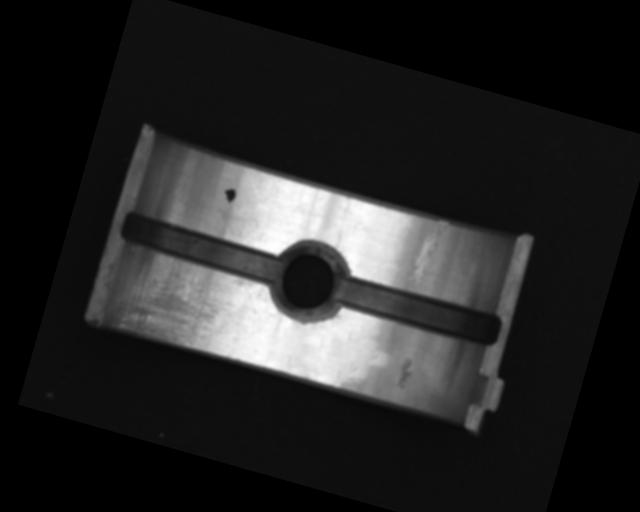blot: (221, 185, 238, 204)
bruise: (391, 354, 418, 392)
gap: (331, 268, 504, 351), (117, 210, 287, 288)
hole: (262, 232, 354, 329)
nick: (408, 216, 449, 288)
scratch: (103, 245, 236, 357)
